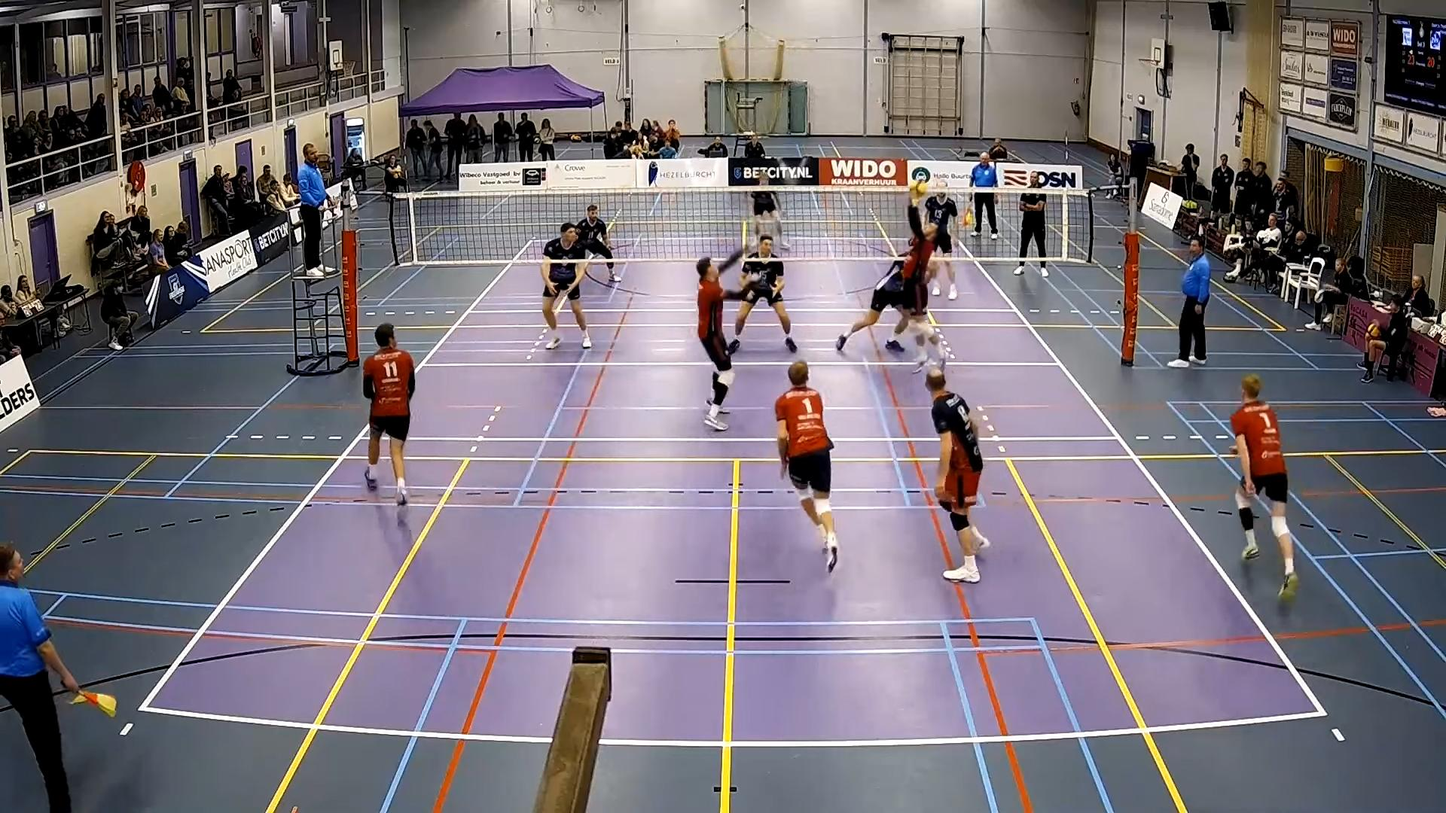Player: (1230, 374, 1298, 600), (926, 369, 989, 582), (775, 361, 837, 571), (363, 323, 415, 504), (697, 248, 747, 430), (728, 235, 797, 353), (541, 223, 590, 349), (925, 186, 958, 300), (576, 204, 620, 282), (751, 176, 789, 247)
Set: (893, 191, 956, 360)
ball: (912, 180, 926, 193)
